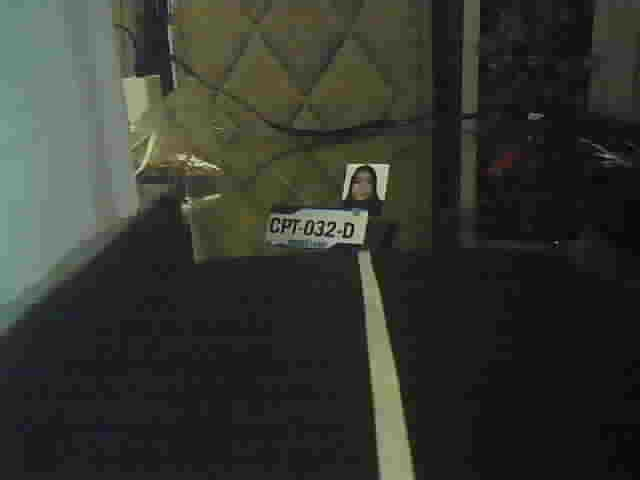PLACA: (263, 205, 368, 255)
ROSTRO: (345, 161, 388, 202)
